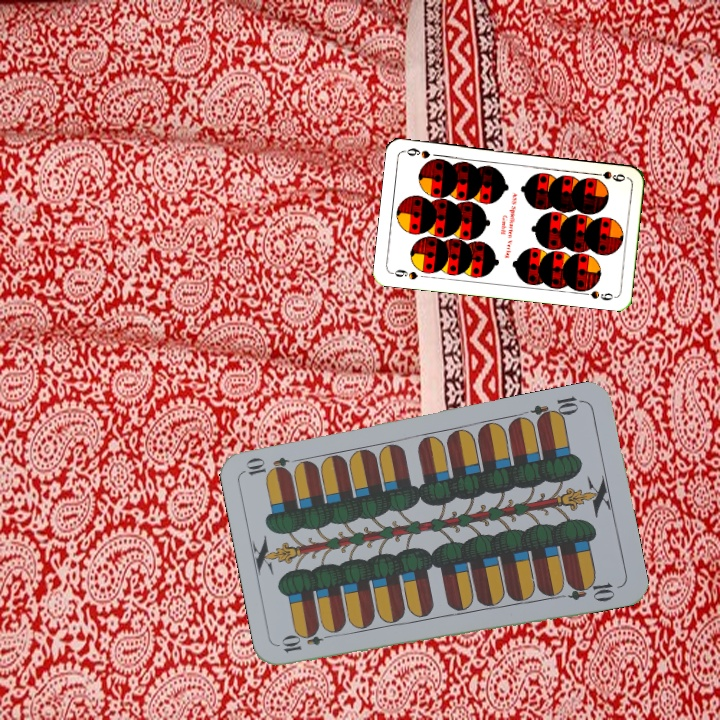E10: (528, 392, 586, 426), (278, 628, 337, 655)
S9: (588, 167, 628, 184), (388, 265, 420, 282)
